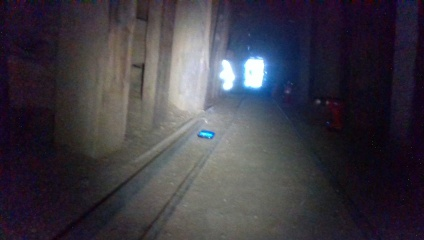cellphone: (196, 128, 216, 140)
drill: (311, 96, 345, 137)
fire_extinguisher: (281, 75, 293, 105)
manikin: (217, 49, 240, 98)
